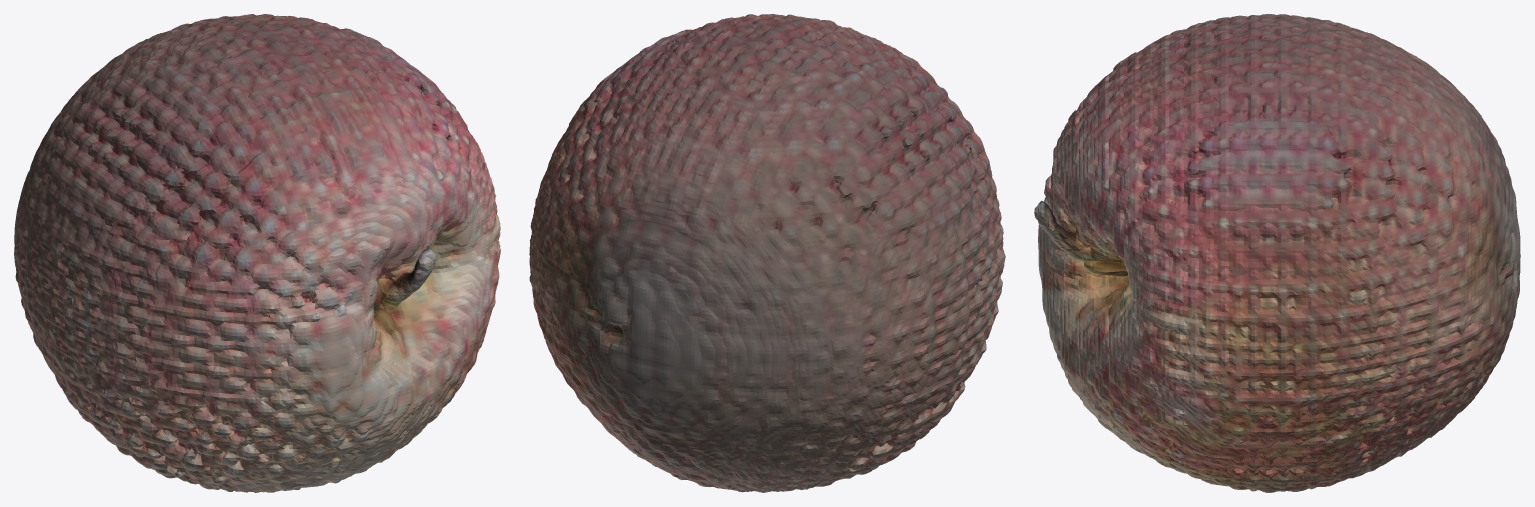
The picture shows the model from 3 angles, left to right: view 1: azimuth 30°, elevation 25°; view 2: azimuth 150°, elevation 25°; view 3: azimuth 270°, elevation 25°; orthographic projection.
Parts seen in each view (by area): view 1: geometry_0; view 2: geometry_0; view 3: geometry_0.
Part boxes in pixels (x1,y1,x2,y2): geometry_0: [14, 14, 500, 492]; geometry_0: [529, 14, 1005, 492]; geometry_0: [1034, 14, 1520, 492].
Size of the model in its own units: 0.8723 by 0.8685 by 0.8855.
